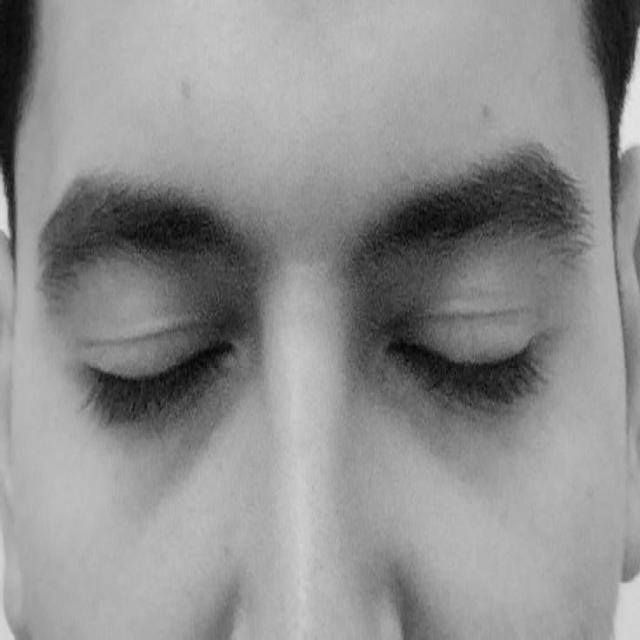real: (60, 200, 578, 484)
